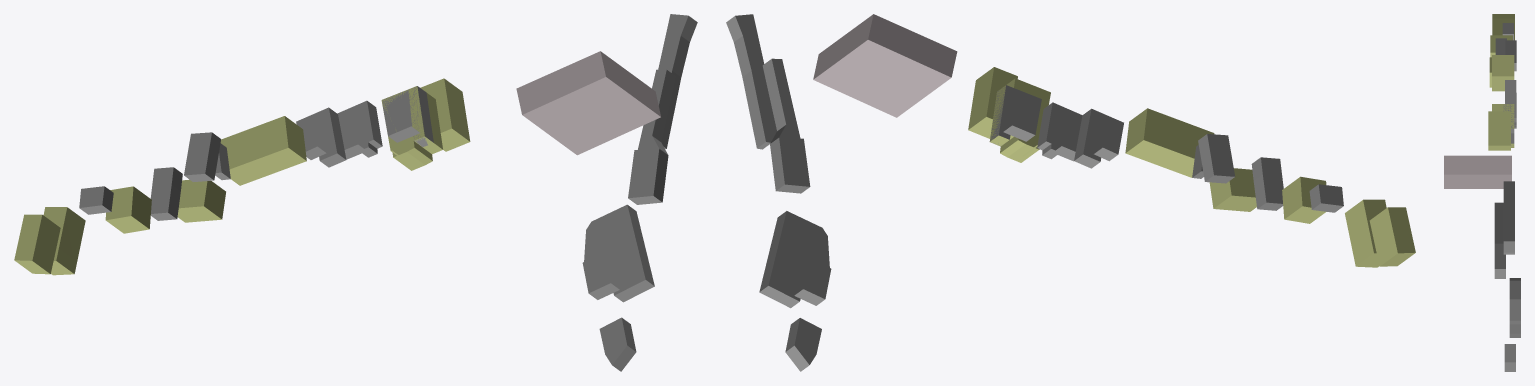
3 renders of one model, left to right at view 1: azimuth 30°, elevation 25°; view 2: azimuth 150°, elevation 25°; view 3: azimuth 270°, elevation 25°, orthographic. The views are drawn at different scales.
Visible parts, largest first — view 1: 0_1_2_0_1_3_3; view 2: 0_1_2_0_1_3_3; view 3: 0_1_2_0_1_3_3.
Part boxes in pixels (left/top/right/bottom): 0_1_2_0_1_3_3: left=14, top=14, right=697, bottom=371; 0_1_2_0_1_3_3: left=726, top=14, right=1415, bottom=371; 0_1_2_0_1_3_3: left=1444, top=14, right=1520, bottom=371.
Size of the model in its own units: 127 by 60.86 by 20.35.
